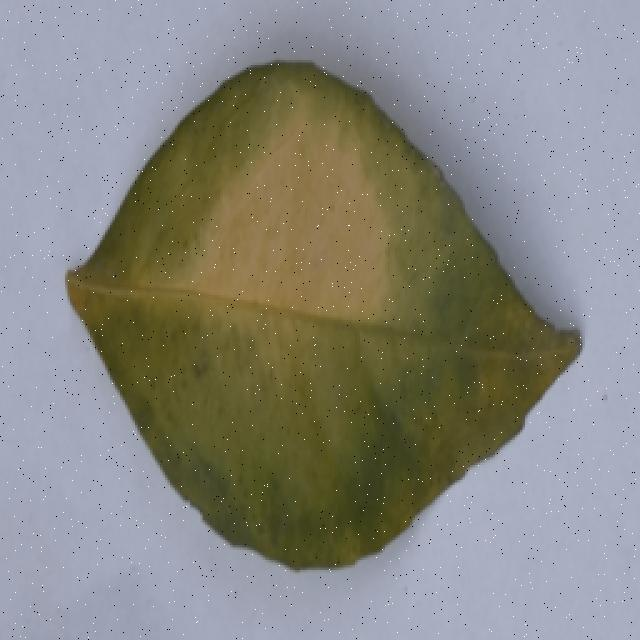greening: (54, 57, 596, 582)
